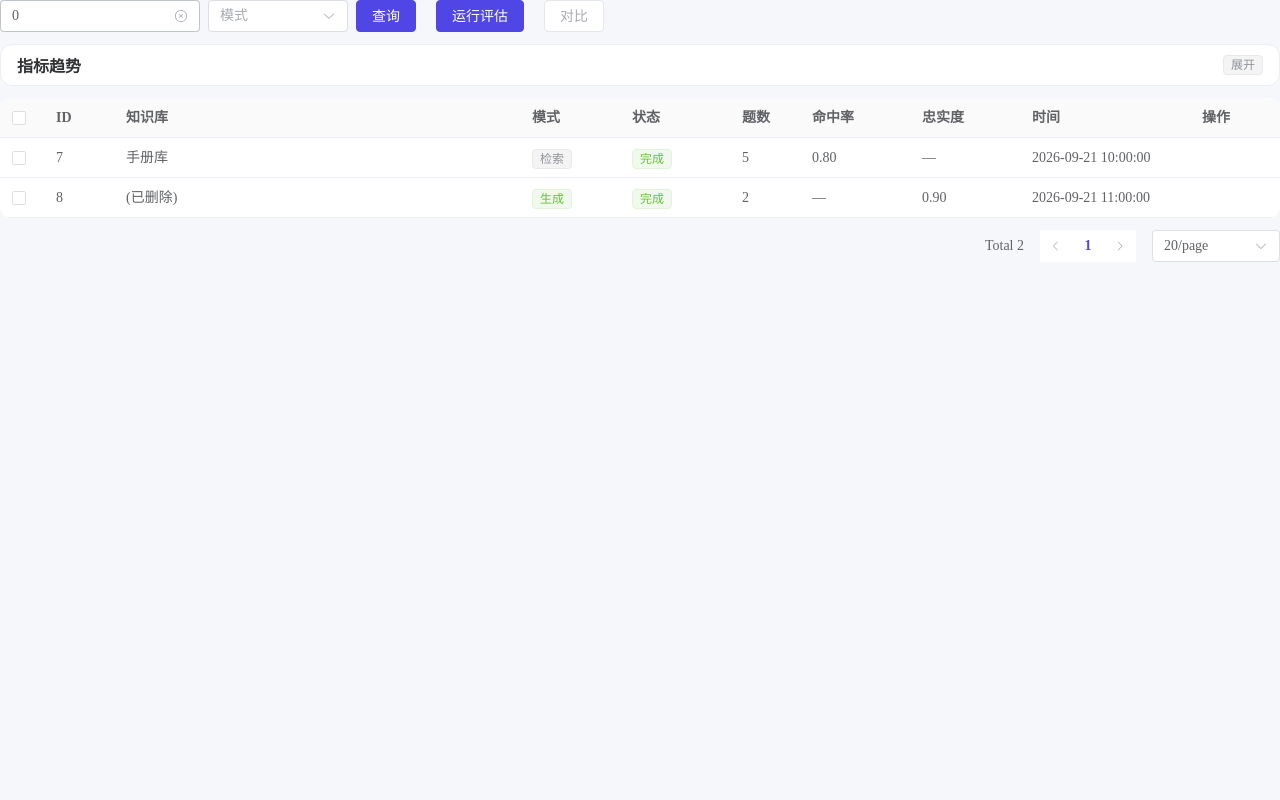
Scenario: EvalPage › generation detail shows expect summary column
Step 1. Click the row "8 (已删除) 生成 完成 2 — 0.90 2026-09-21 11:00:00" → (640, 198), box [0,178,1279,218]
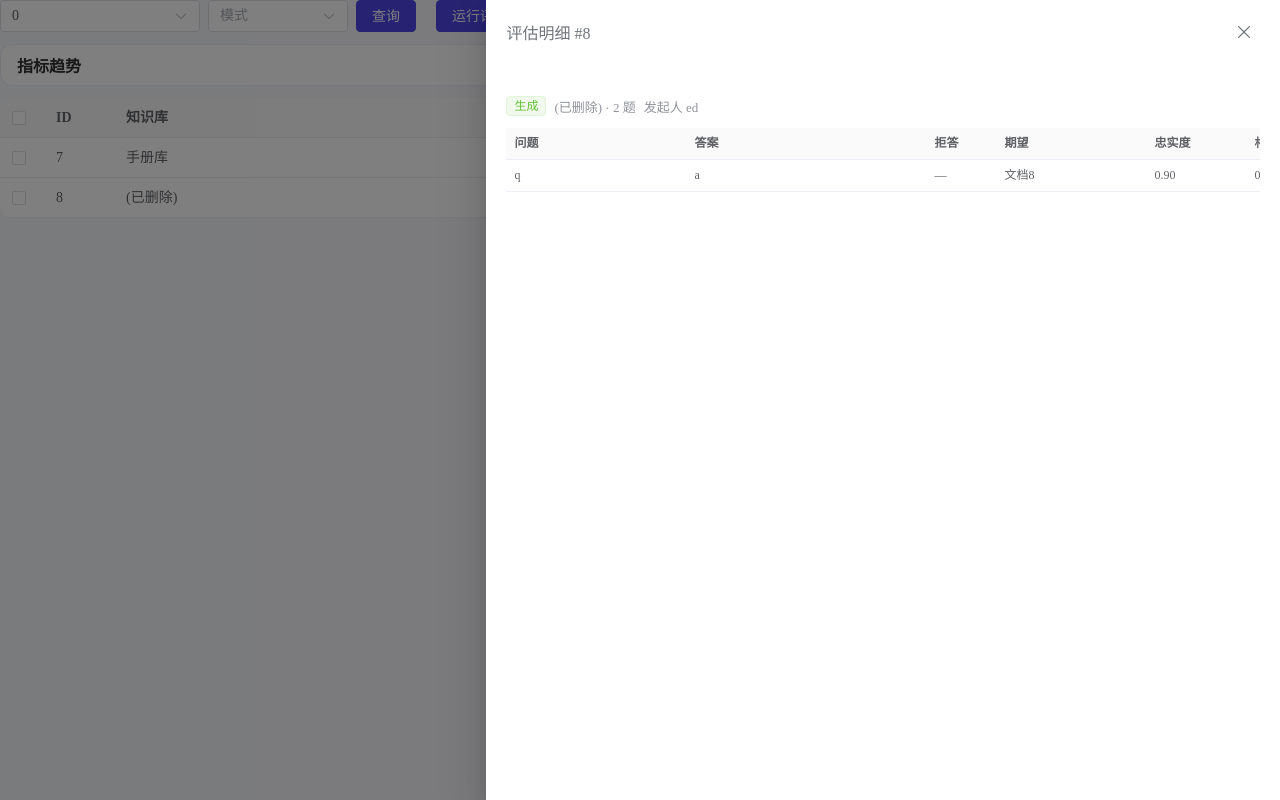
Result: the text "文档8" is shown at [1004,168,1034,182]
